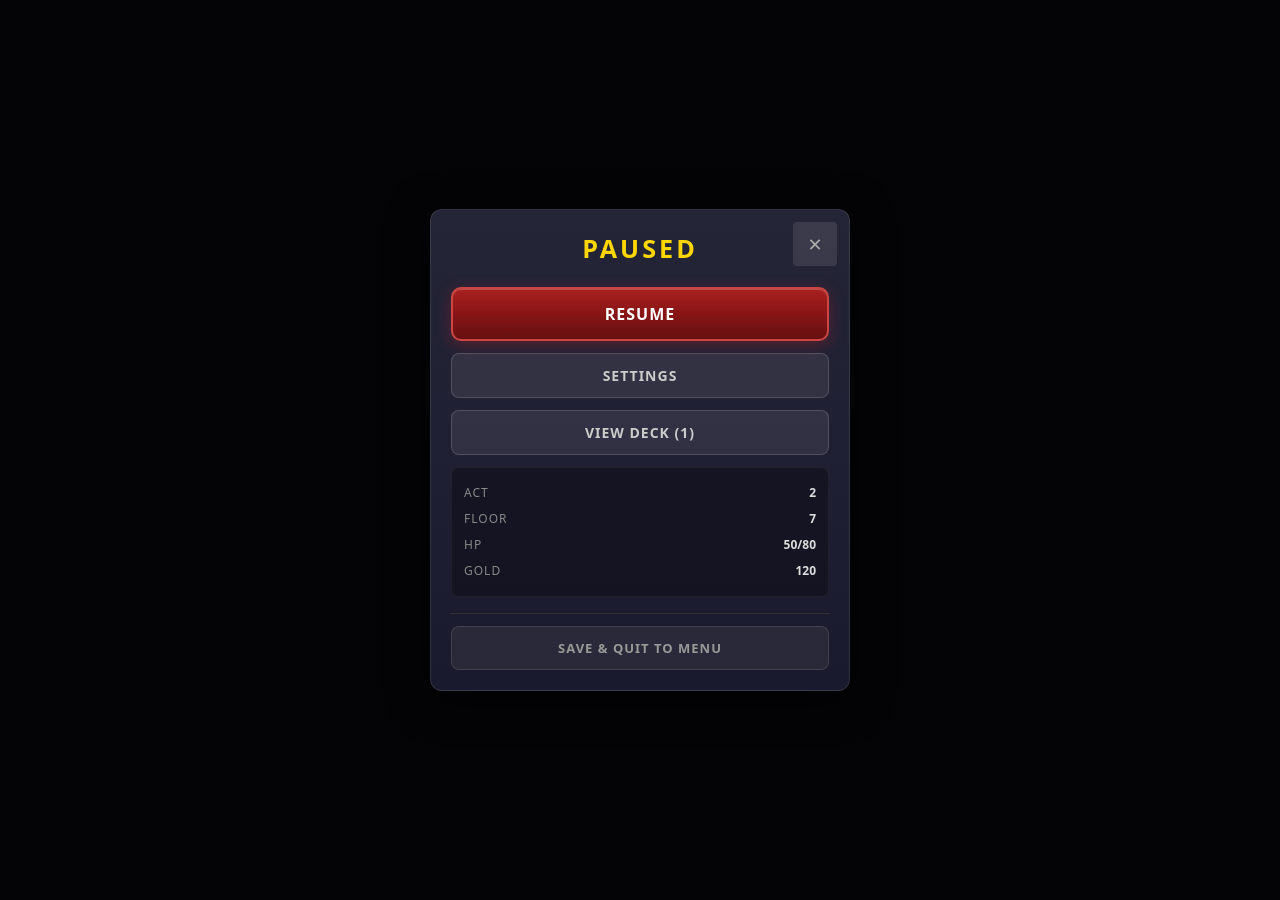
PauseMenu › switches to settings tab
The width and height of the screenshot is (1280, 900).
Click the button with test id "pause-settings": (640, 376) [451,353,829,398]
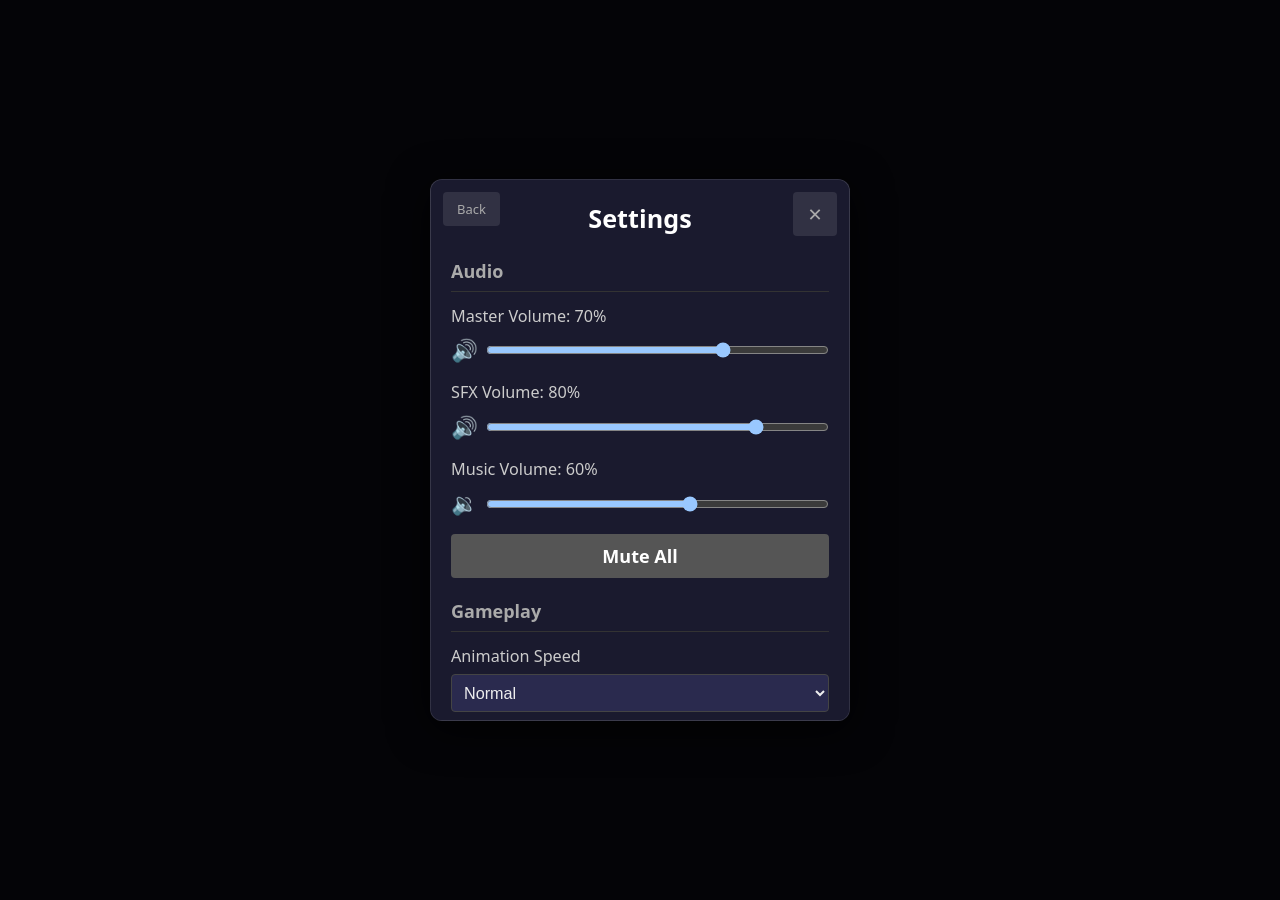
Result: the heading "Settings" is shown at [588,201,692,235]
Result: the slider named "Master Volume" is shown at [486,342,829,358]
